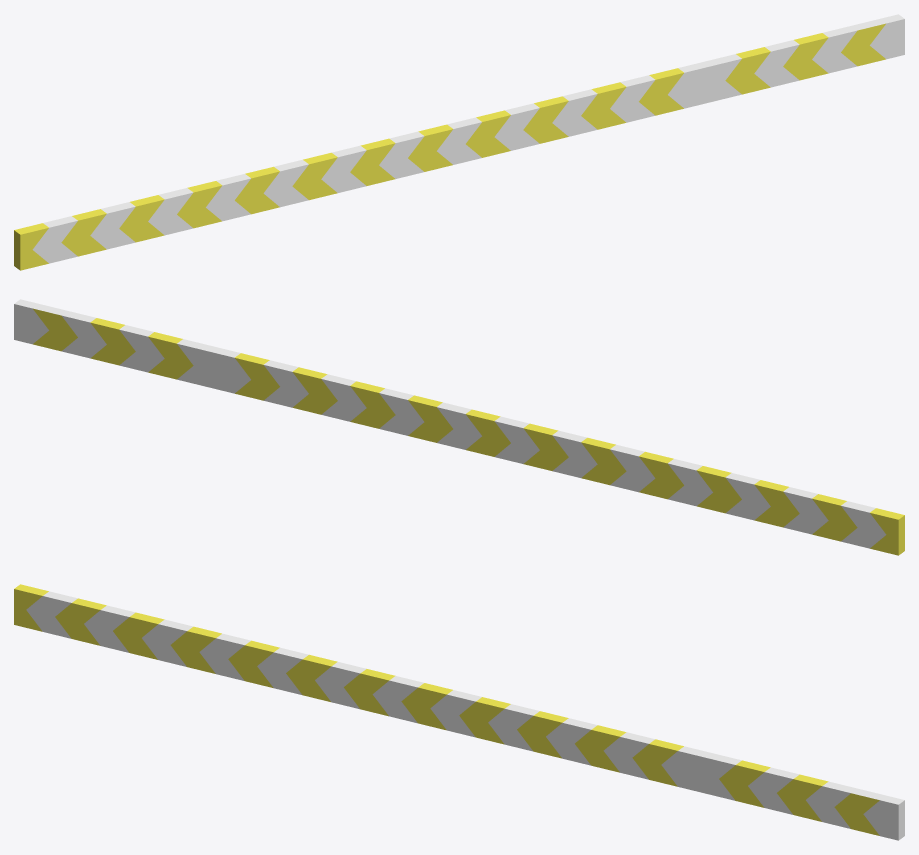
The model's file is serit.fbx.
3 views of the same model, one above another, from view 1: azimuth 30°, elevation 25°; view 2: azimuth 150°, elevation 25°; view 3: azimuth 330°, elevation 25° (orthographic).
Parts seen in each view (by area): view 1: Cube; view 2: Cube; view 3: Cube.
Part boxes in pixels (x1=…): Cube: x1=14, y1=14, x2=904, y2=270; Cube: x1=14, y1=299, x2=904, y2=555; Cube: x1=14, y1=584, x2=904, y2=840.
Size of the model in its own units: 3017 by 117 by 37.8.
